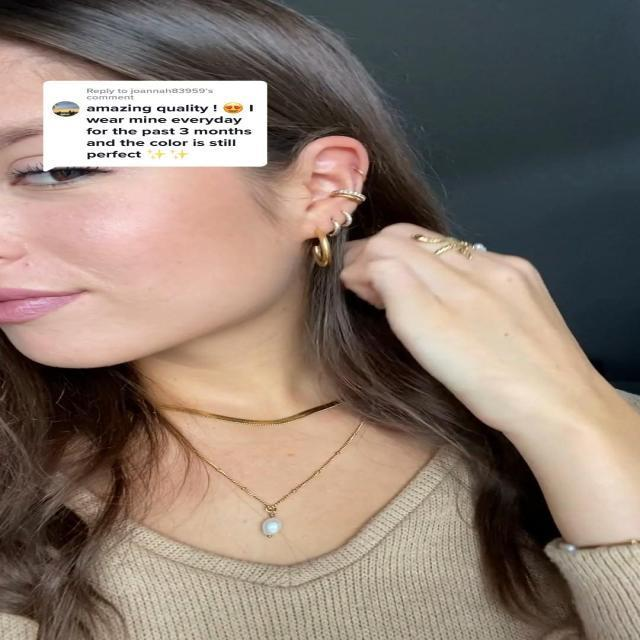Earring: (307, 226, 352, 272), (333, 187, 373, 210), (328, 204, 352, 233)
